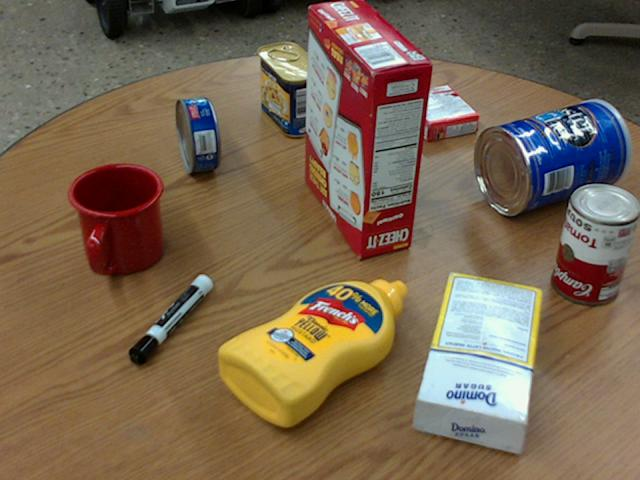cracker_box: (303, 0, 431, 257)
gelatin_box: (397, 84, 478, 140)
large_marker: (128, 274, 211, 363)
master_chef_can: (473, 98, 629, 214)
mug: (67, 164, 164, 275)
mustard_bottle: (217, 278, 406, 428)
potted_meat_can: (256, 42, 323, 136)
sugar_box: (413, 271, 542, 452)
tomato_soup_can: (551, 181, 638, 301)
tuna_fish_can: (176, 97, 218, 172)
